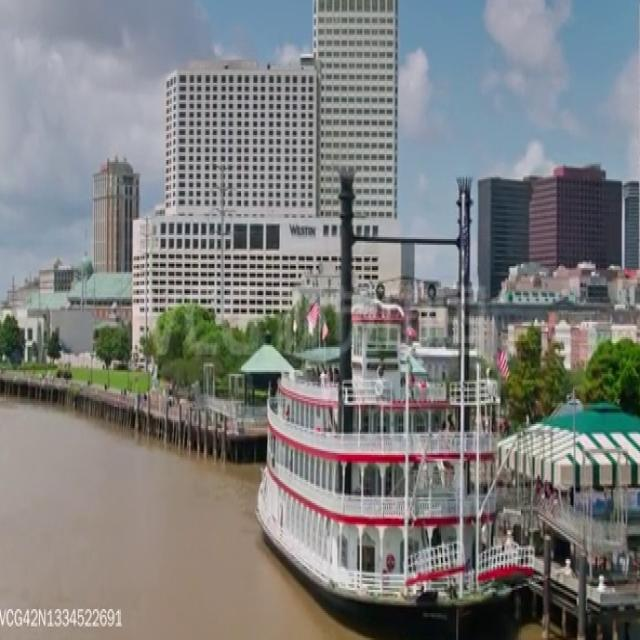passenger ship: (255, 333, 523, 627)
